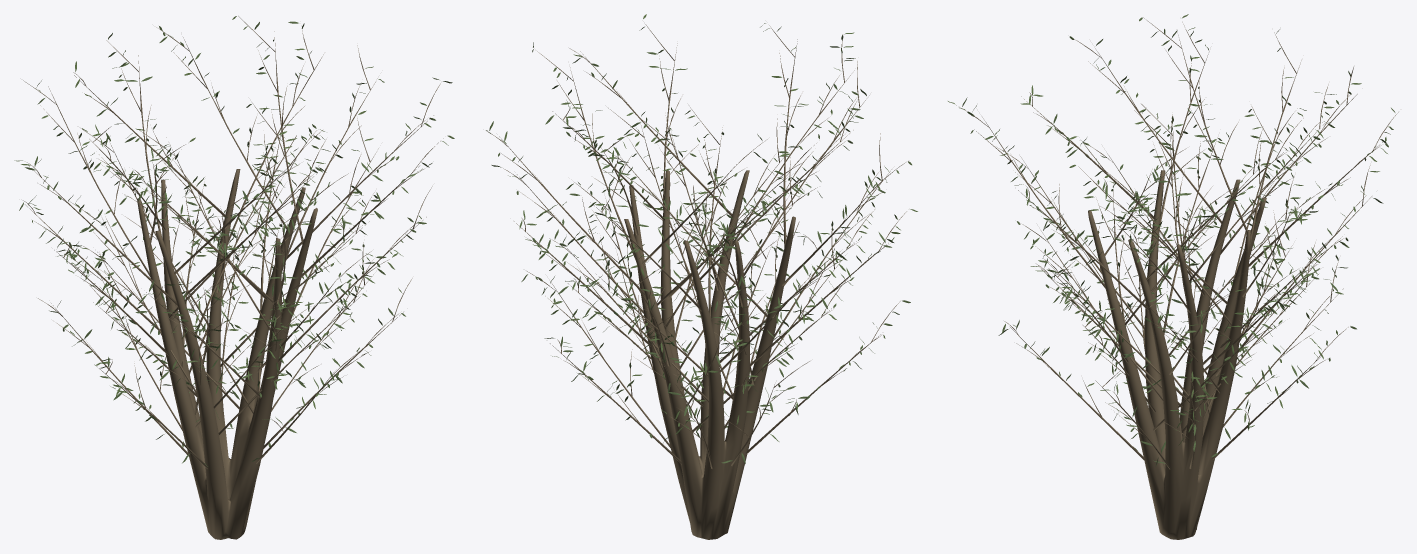
The model's file is Filaire_1_Niveau0.fbx.
3 views of the same model, side by side, from view 1: azimuth 30°, elevation 25°; view 2: azimuth 150°, elevation 25°; view 3: azimuth 270°, elevation 25° (orthographic).
Visible parts, largest first — view 1: Filaire_1_Niveau0; view 2: Filaire_1_Niveau0; view 3: Filaire_1_Niveau0.
Boxes of the visible parts, x1,y1,x2,y2 form: Filaire_1_Niveau0: [14, 16, 454, 539]; Filaire_1_Niveau0: [486, 14, 917, 539]; Filaire_1_Niveau0: [948, 14, 1398, 539].
Bounding box in the file's own units: 184 × 197 × 178.
